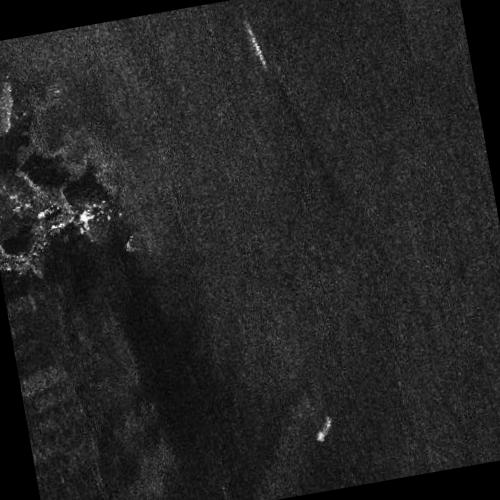ship: (244, 20, 266, 69), (317, 415, 331, 443)
